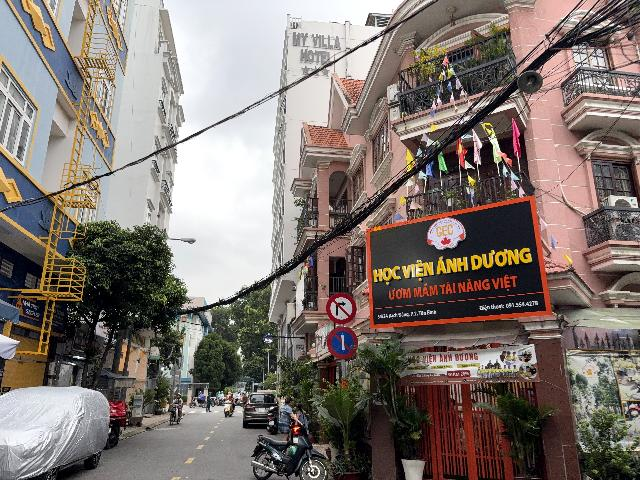cam-do-xe-ngay-le: (327, 326, 358, 360)
cam-re-phai: (326, 293, 357, 324)
